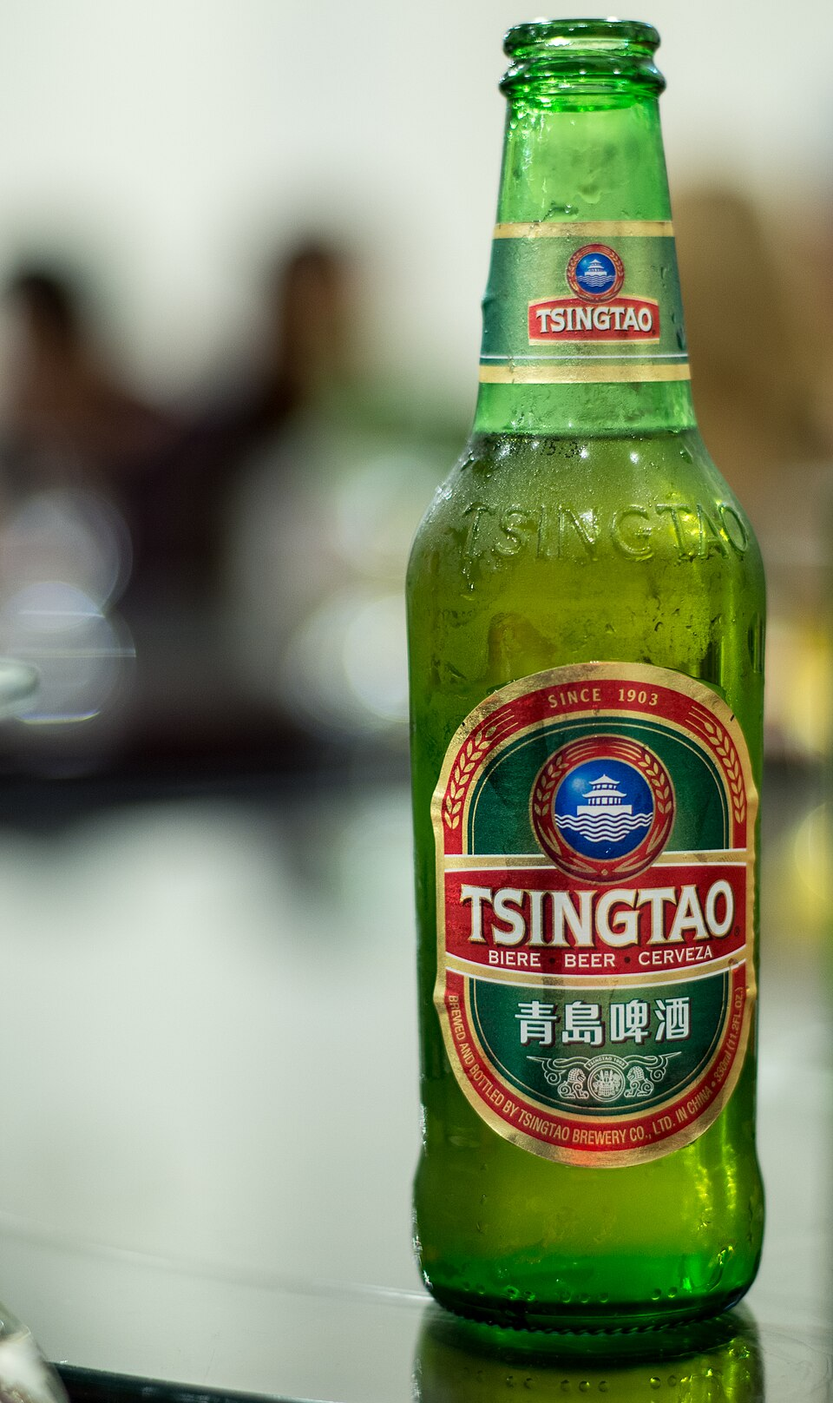beer-bottle: (386, 2, 788, 1381)
